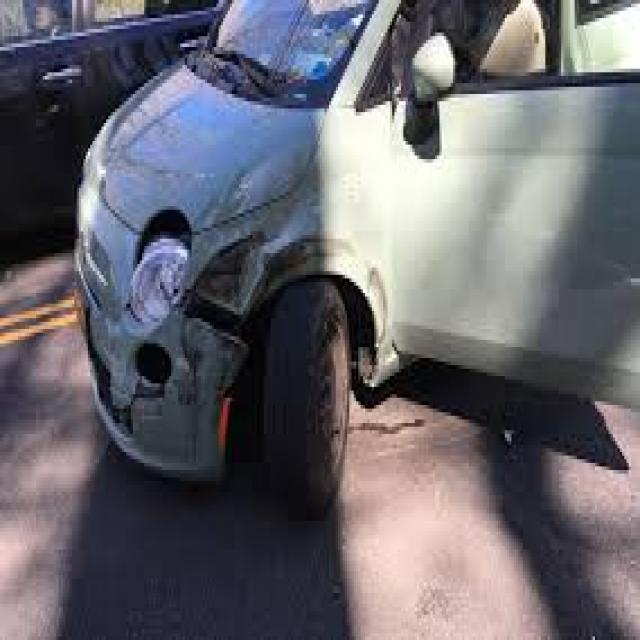severe: (103, 207, 345, 437)
